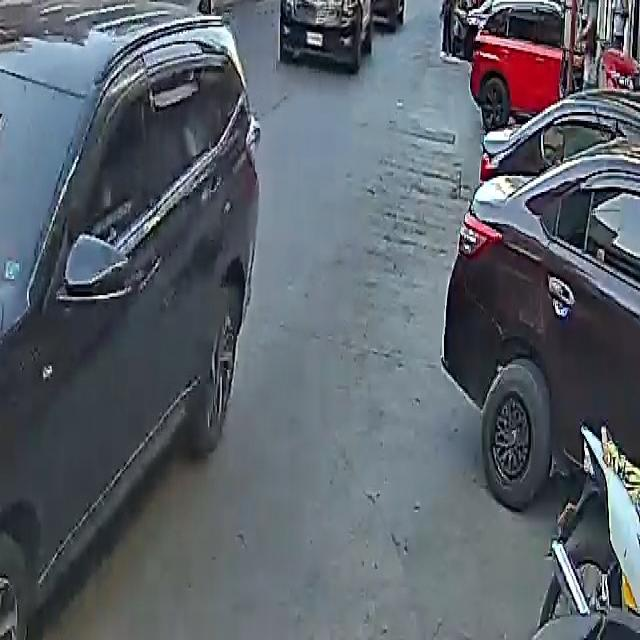car: (0, 0, 274, 635), (444, 98, 640, 524), (464, 0, 587, 126), (281, 0, 401, 66), (330, 0, 404, 32), (84, 0, 214, 18)
